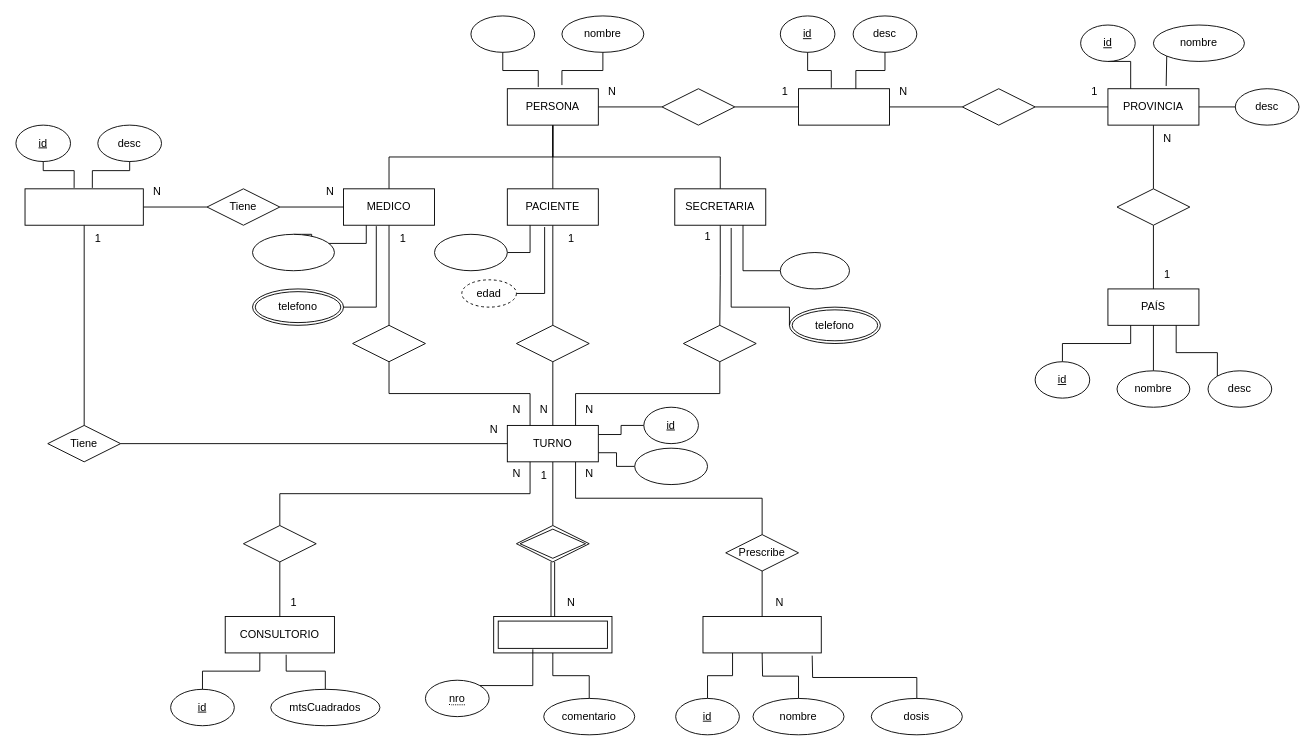
The diagram is 1315 pixels wide and 751 high, and some of its shapes have lost their labels. The shapes that lost their labels are listed below. From the top down, each one's centre as x and y in pixels, then its label:
the point at 502,33: cod
the point at 698,106: Vive en
the point at 844,106: LOCALIDAD
the point at 998,106: Se encuentra en
the point at 83,206: ESPECIALIDAD
the point at 1153,206: Pertenece a
the point at 293,252: matricula
the point at 470,252: fechaNac
the point at 814,270: sueldo
the point at 388,343: Atiene
the point at 552,343: Posee
the point at 719,343: Otorga
the point at 671,466: fecha
the point at 279,543: Se realiza en
the point at 552,543: Determina
the point at 552,634: DIAGNÓSTICO
the point at 761,634: MEDICAMENTO
